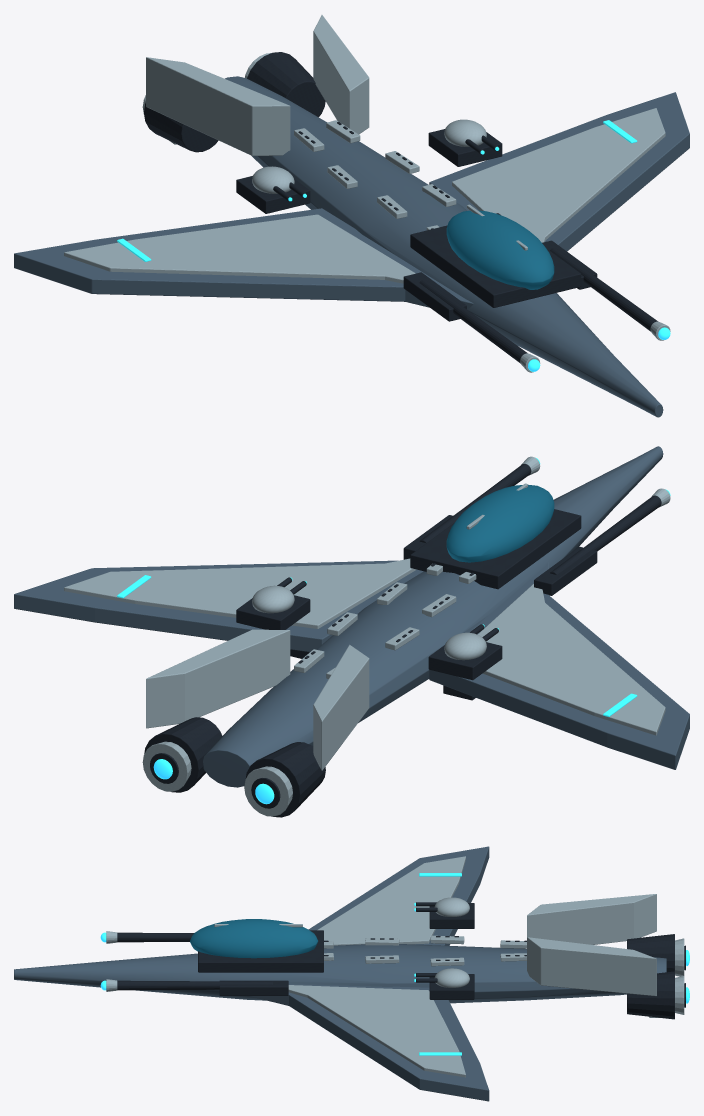
The model's file is heavy_fighter.glb.
3 views of the same model, one above another, from view 1: azimuth 30°, elevation 25°; view 2: azimuth 150°, elevation 25°; view 3: azimuth 270°, elevation 25° (orthographic). The views are drawn at different scales.
Visible parts, largest first — view 1: heavy_fighter; view 2: heavy_fighter; view 3: heavy_fighter.
Part boxes in pixels (x1,y1,x2,y2): heavy_fighter: (14,15,689,417); heavy_fighter: (14,446,689,817); heavy_fighter: (14,846,689,1101).
Bounding box in the file's own units: 12.39 × 1.81 × 14.5.
Materials: 6 (3 with a texture image).
